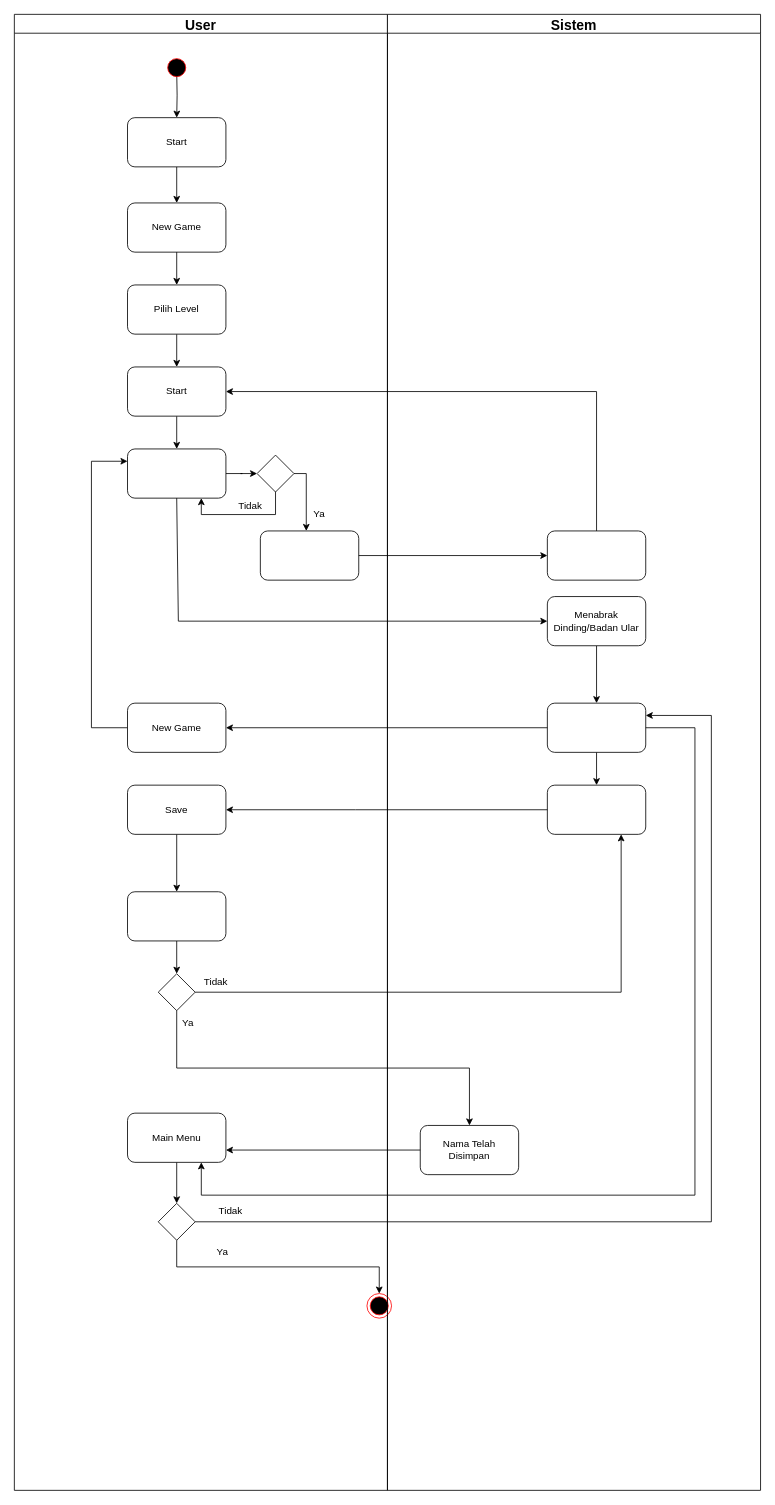
This 775x1505 diagram has some shape labels left out. Each missing label, with the centre of its shape:
Bermain " Snake Game": (176,473)
Game Berhenti: (596,555)
Game Over: (596,727)
Masukan Nama: (176,916)
Pause: (309,555)
Score: (596,809)
